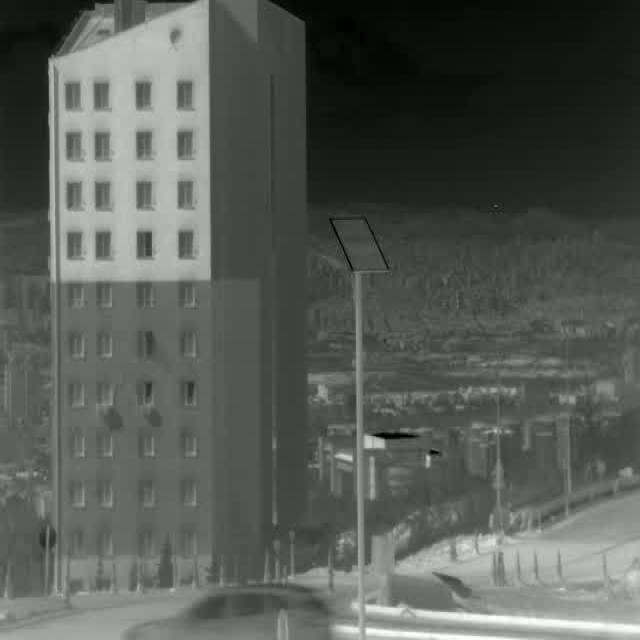Car: (118, 581, 334, 640)
